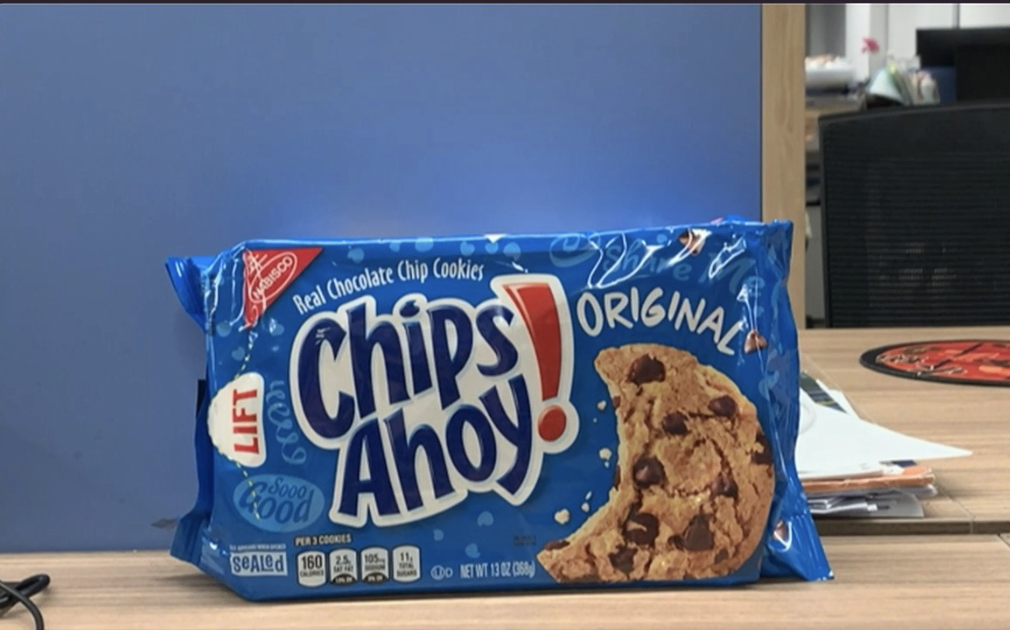cookies_450g: (225, 262, 785, 580)
